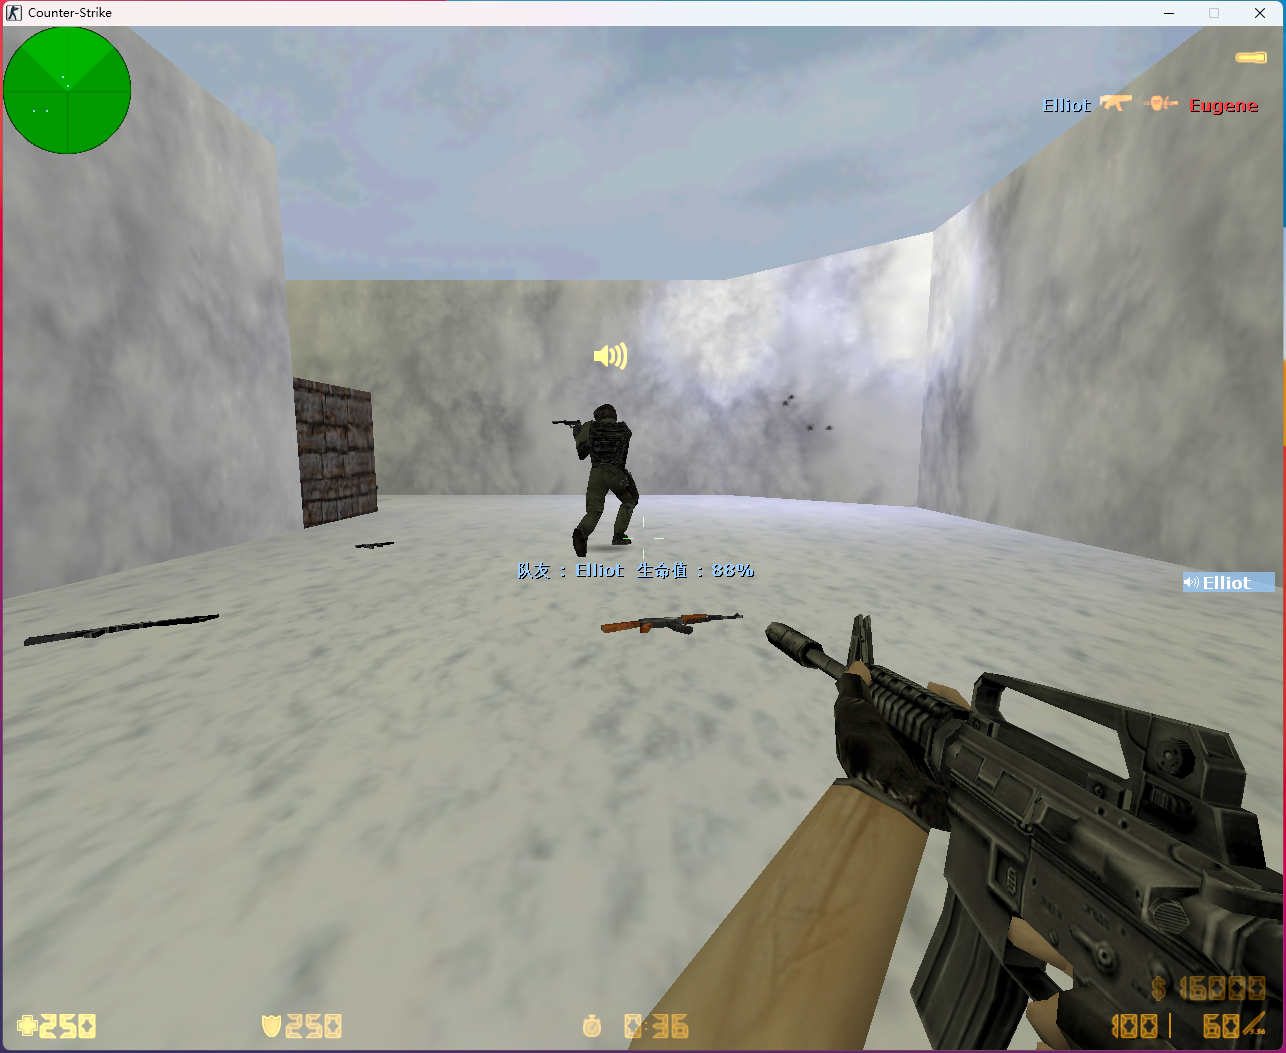C: (551, 400, 641, 561)
weapon: (14, 613, 225, 649), (593, 612, 747, 639), (348, 538, 397, 551)
